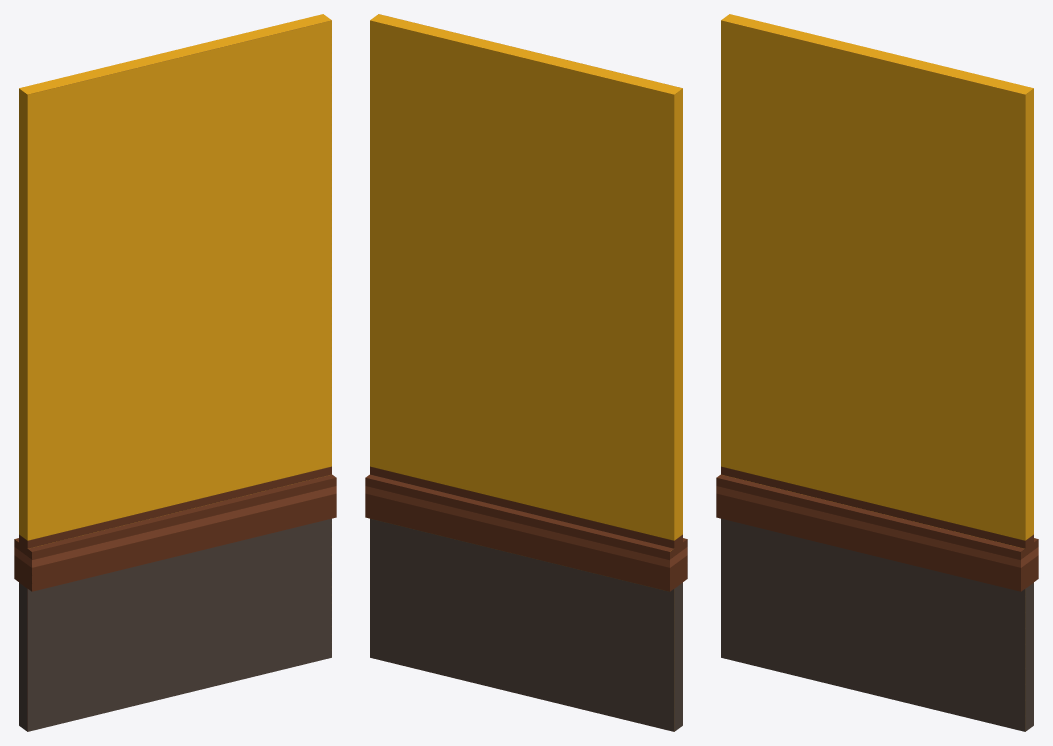
The model's file is IKEA_Pared.fbx.
3 views of the same model, side by side, from view 1: azimuth 30°, elevation 25°; view 2: azimuth 150°, elevation 25°; view 3: azimuth 330°, elevation 25° (orthographic).
Parts seen in each view (by area): view 1: IKEA_Pared; view 2: IKEA_Pared; view 3: IKEA_Pared.
Part boxes in pixels (x1=…): IKEA_Pared: x1=14, y1=14, x2=336, y2=731; IKEA_Pared: x1=365, y1=14, x2=687, y2=731; IKEA_Pared: x1=716, y1=14, x2=1038, y2=731.
Bounding box in the file's own units: 400 × 800 × 40.
